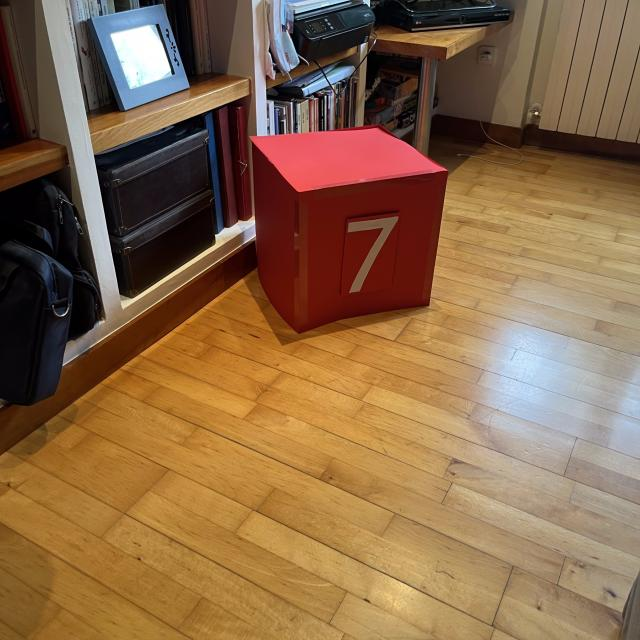box: (246, 122, 450, 335)
